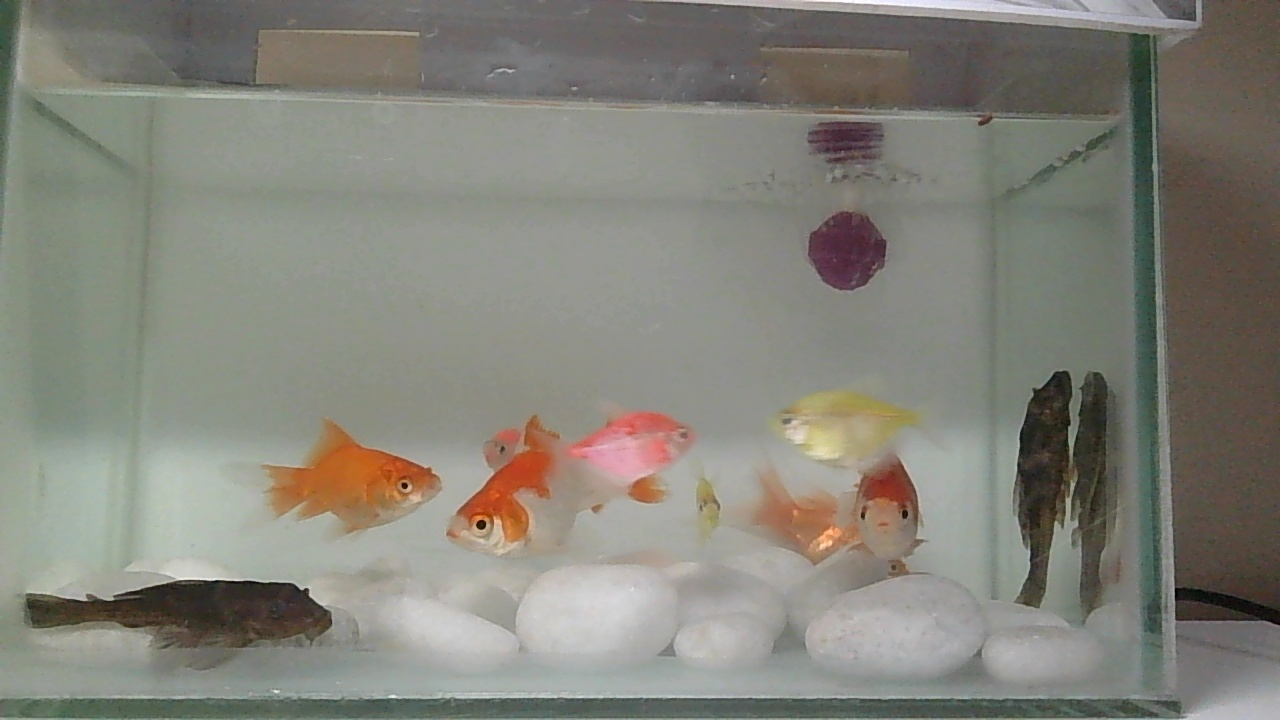fish: (442, 404, 711, 571), (743, 432, 926, 581), (256, 411, 442, 535), (804, 206, 894, 291)
